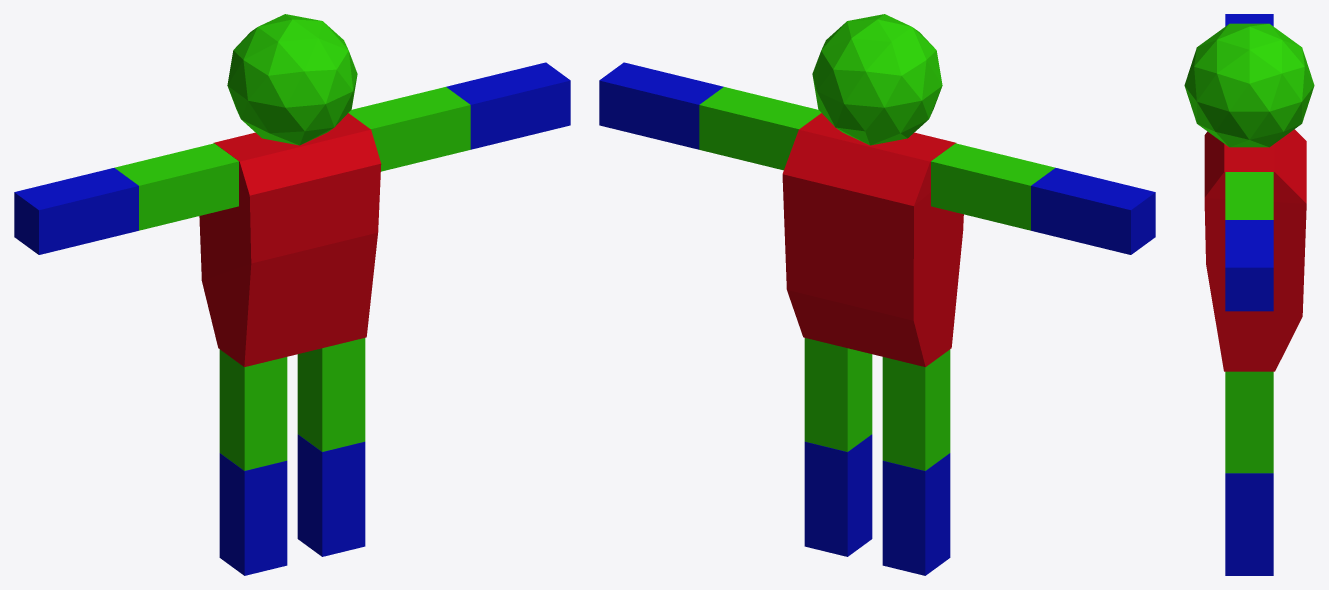
Rendered from testHuman.fbx.
3 views of the same model, side by side, from view 1: azimuth 30°, elevation 25°; view 2: azimuth 150°, elevation 25°; view 3: azimuth 270°, elevation 25° (orthographic). The views are drawn at different scales.
Visible parts, largest first — view 1: cube, sphere, cube.006, cube.008, cube.007, cube.003, cube.005, cube.002, cube.004, cube.001; view 2: cube, sphere, cube.006, cube.008, cube.007, cube.003, cube.005, cube.002, cube.004, cube.001; view 3: cube, sphere, cube.004, cube.008, cube.005, cube.001, cube.006.
Part boxes in pixels (x1,y1,x2,y2): cube: (199, 113, 381, 366); sphere: (227, 14, 357, 145); cube.006: (14, 168, 138, 254); cube.008: (297, 434, 365, 556); cube.007: (219, 453, 287, 575); cube.003: (219, 349, 287, 470); cube.005: (446, 62, 570, 149); cube.002: (114, 143, 238, 230); cube.004: (297, 338, 365, 451); cube.001: (348, 87, 470, 171); cube: (782, 113, 963, 366); sphere: (812, 14, 942, 145); cube.006: (1031, 168, 1155, 254); cube.008: (804, 434, 872, 556); cube.007: (882, 453, 950, 575); cube.003: (882, 349, 950, 470); cube.005: (599, 62, 723, 149); cube.002: (931, 143, 1055, 230); cube.004: (804, 338, 872, 451); cube.001: (699, 87, 821, 170); cube: (1204, 129, 1306, 371); sphere: (1184, 23, 1314, 147); cube.004: (1225, 371, 1273, 473); cube.008: (1225, 473, 1273, 575); cube.005: (1225, 220, 1273, 311); cube.001: (1225, 172, 1273, 219); cube.006: (1225, 14, 1273, 26).
Bounding box in the file's own units: 744 × 712 × 161.
